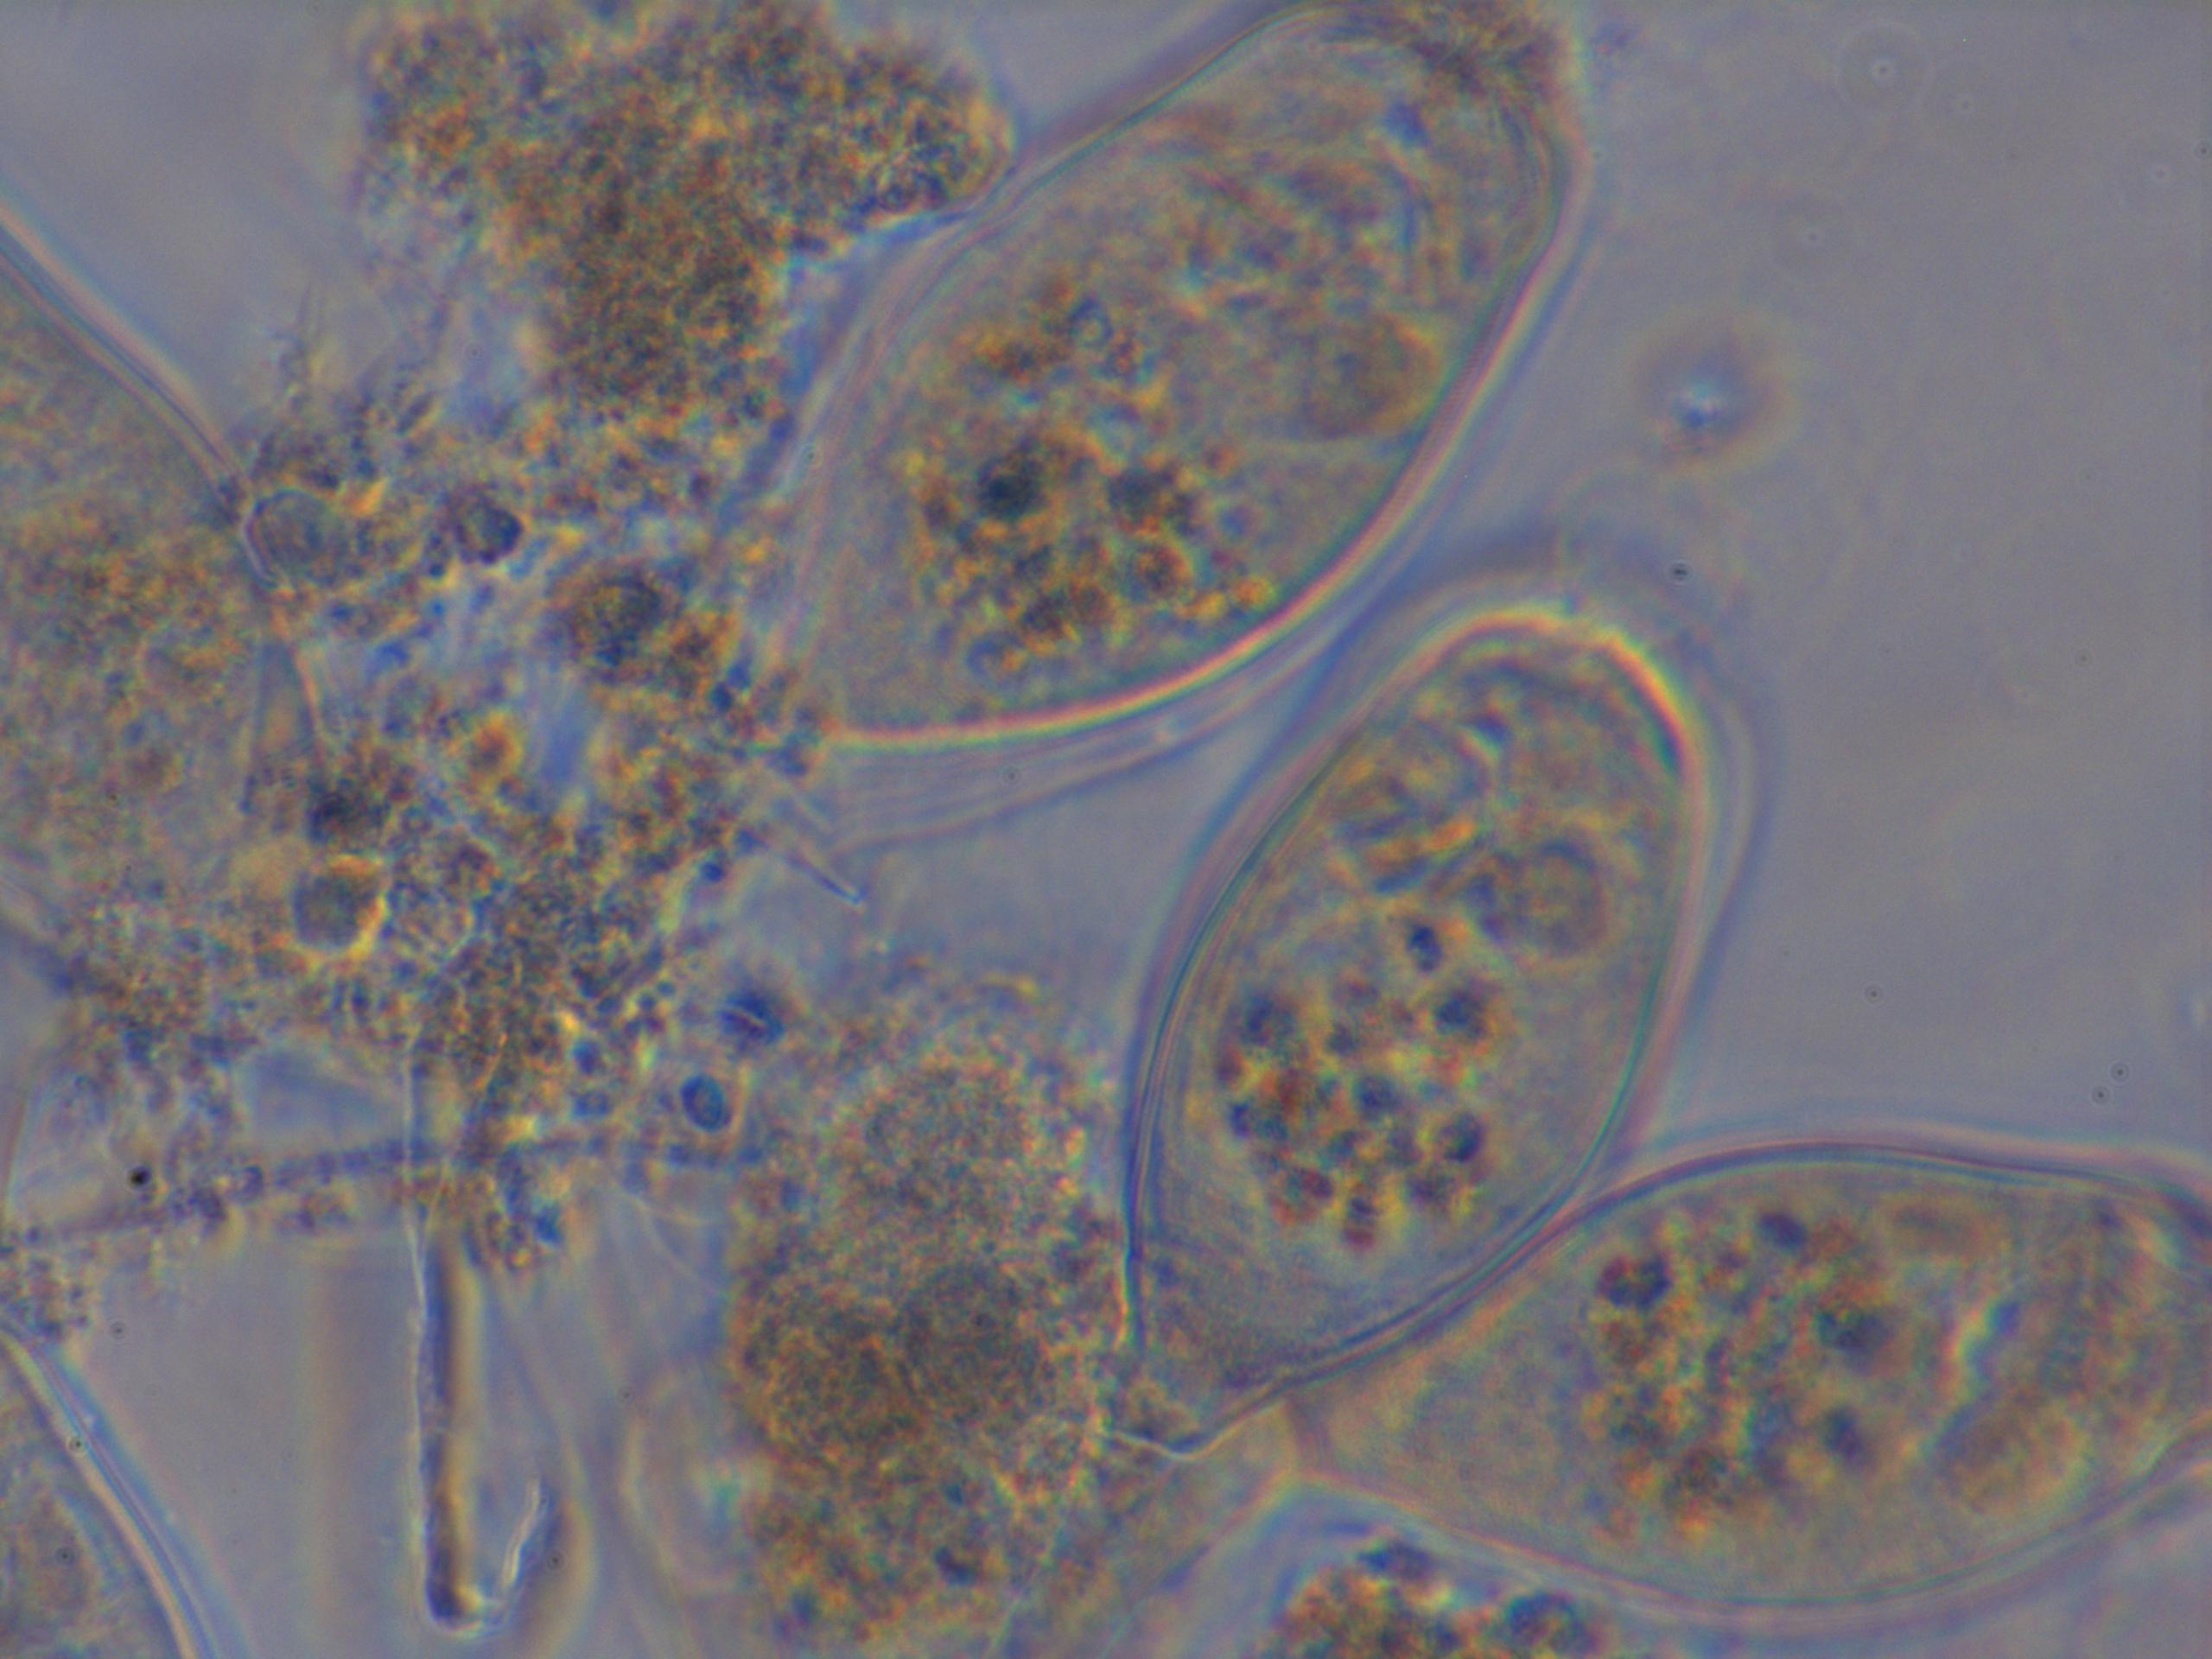filament: (336, 1051, 535, 1636)
protozoa: (632, 0, 1592, 819)
